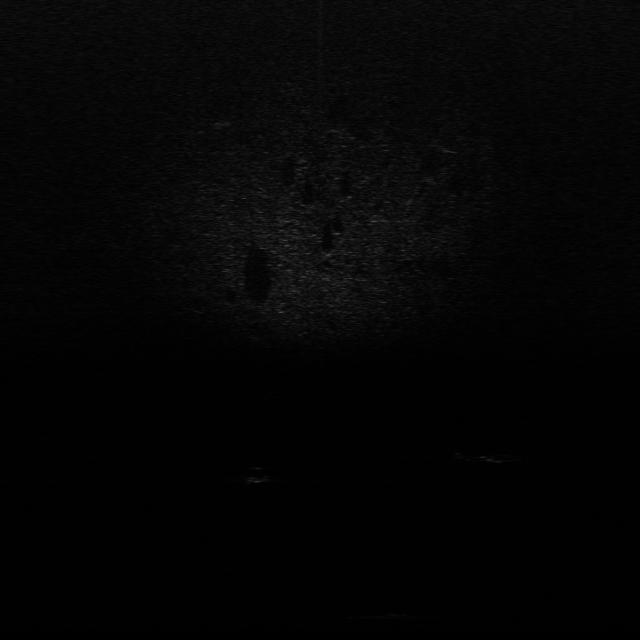ball: (234, 463, 277, 485)
human body: (456, 442, 526, 469)
